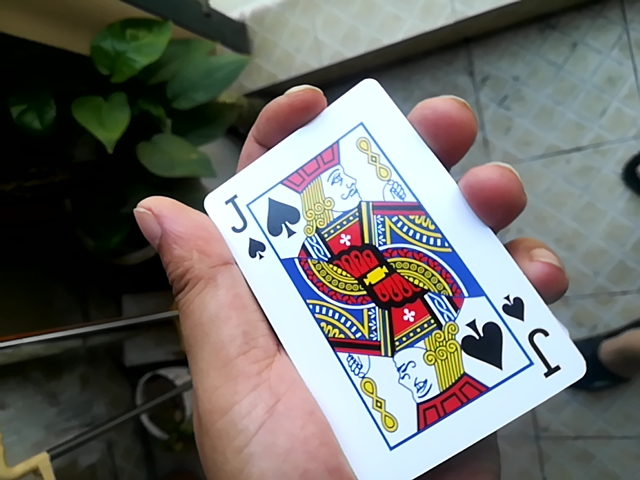ht j: (195, 66, 572, 474)
